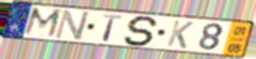8: (198, 22, 225, 51)
K: (165, 19, 196, 50)
M: (21, 6, 65, 40)
N: (52, 8, 92, 42)
S: (122, 15, 161, 47)
T: (102, 13, 124, 43)
